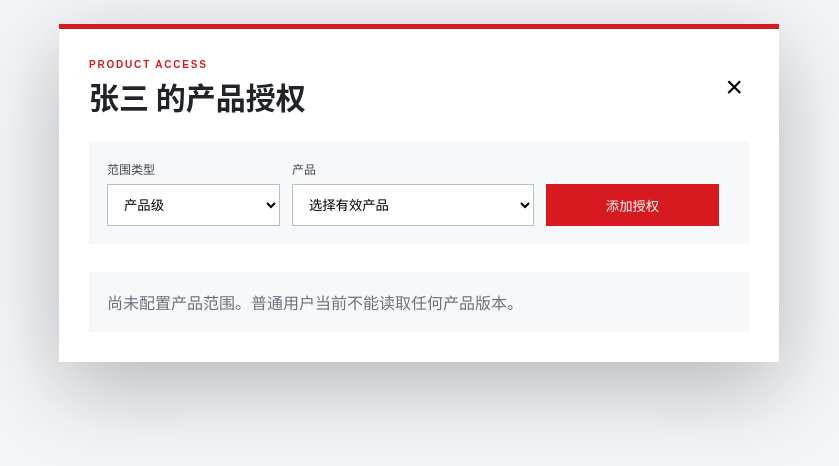
Test: ProductScopeEditor › loads versions and grants a version-level scope
The image size is (839, 466).
Select "监护仪（P-001）" in the dropdown named "product_id": (413, 205) 292,184 -> 534,226
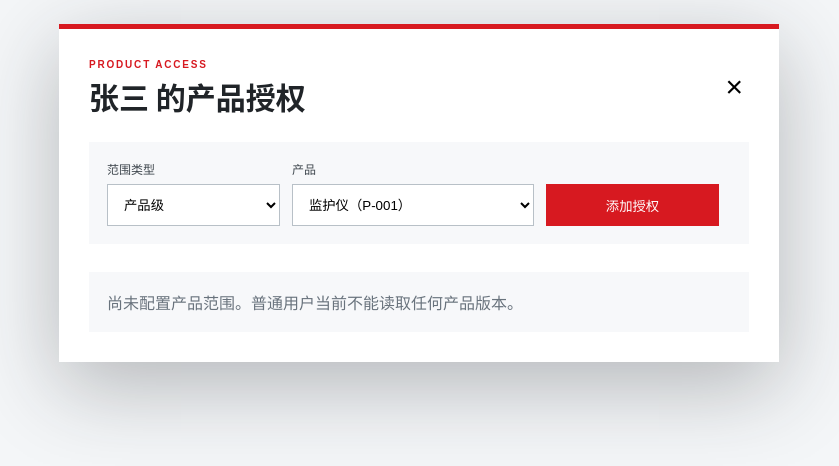
Select "版本级" in the dropdown named "scope_type": (193, 205) 107,184 -> 280,226
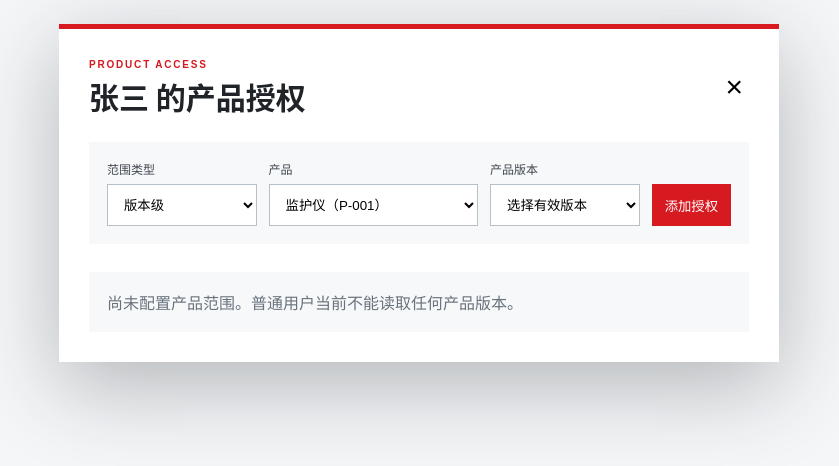
Select "1.0" in the dropdown named "product_version_id": (565, 205) 490,184 -> 640,226
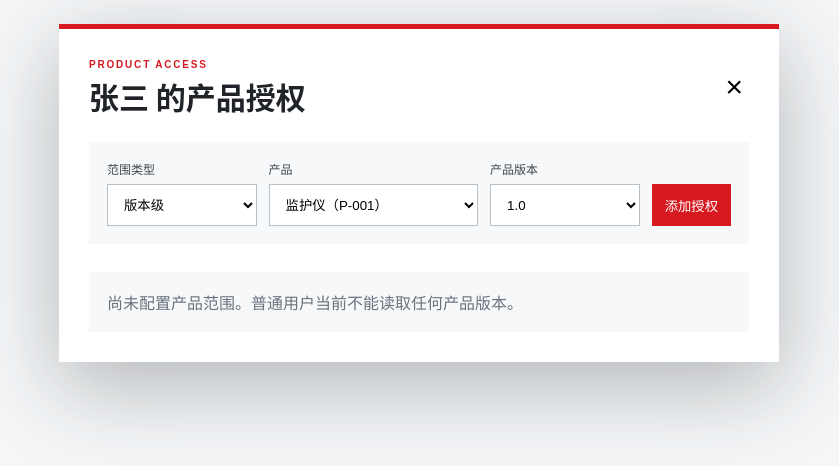
Submit the form, box 89,142 -> 749,244
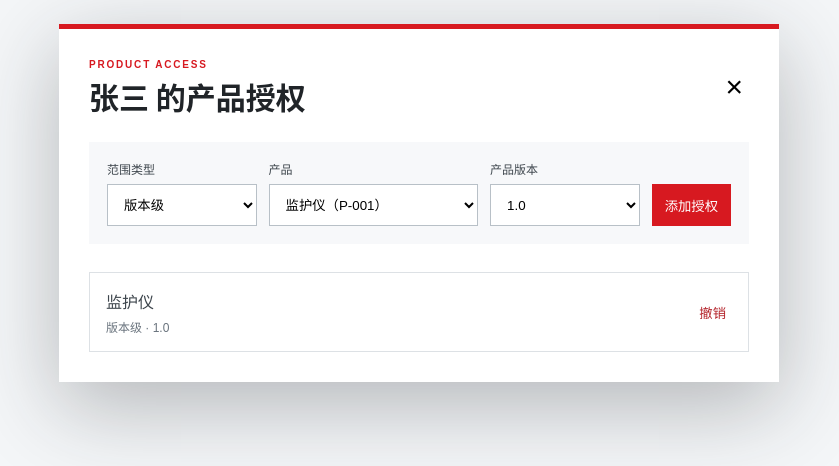
Now the text "版本级 · 1.0" is shown, box 106,318 -> 169,335
